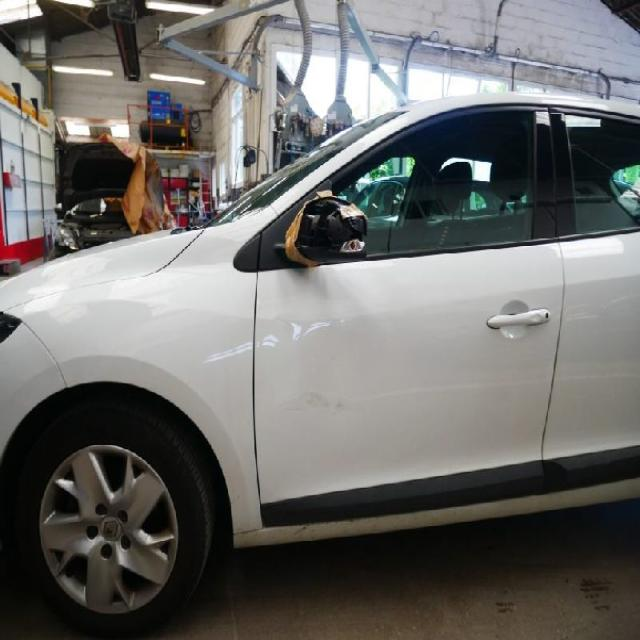porte-avant: (261, 100, 555, 531)
